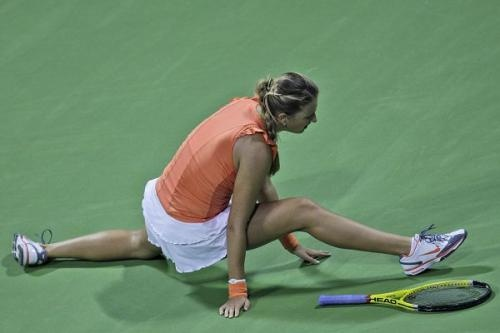falling: (10, 61, 485, 313)
